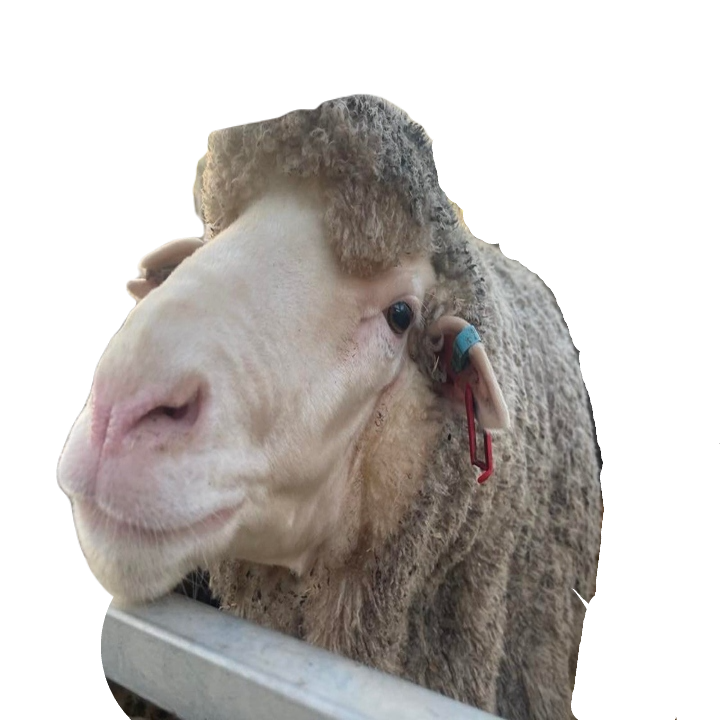Sheep: (50, 86, 608, 719)
